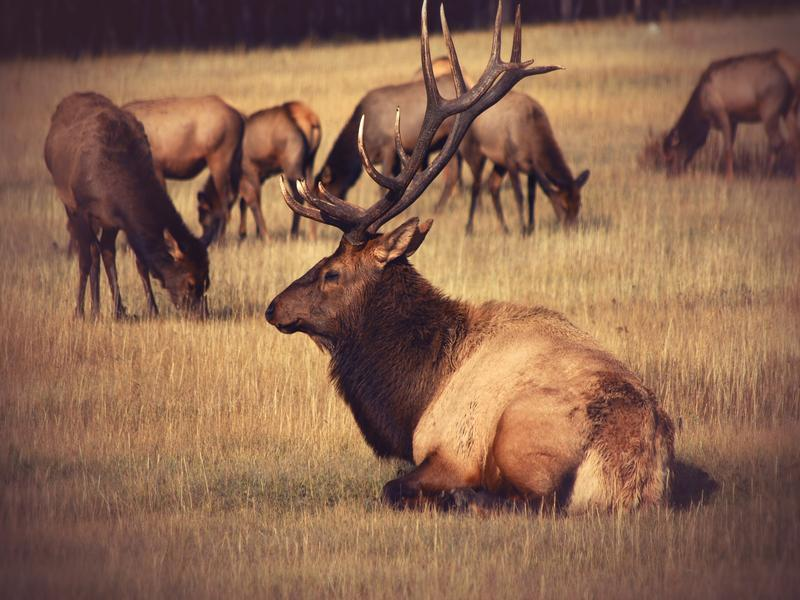elk: (257, 41, 669, 503), (44, 84, 214, 318), (440, 78, 595, 231), (83, 97, 246, 240), (658, 40, 800, 179), (314, 78, 441, 212), (204, 97, 316, 235)
